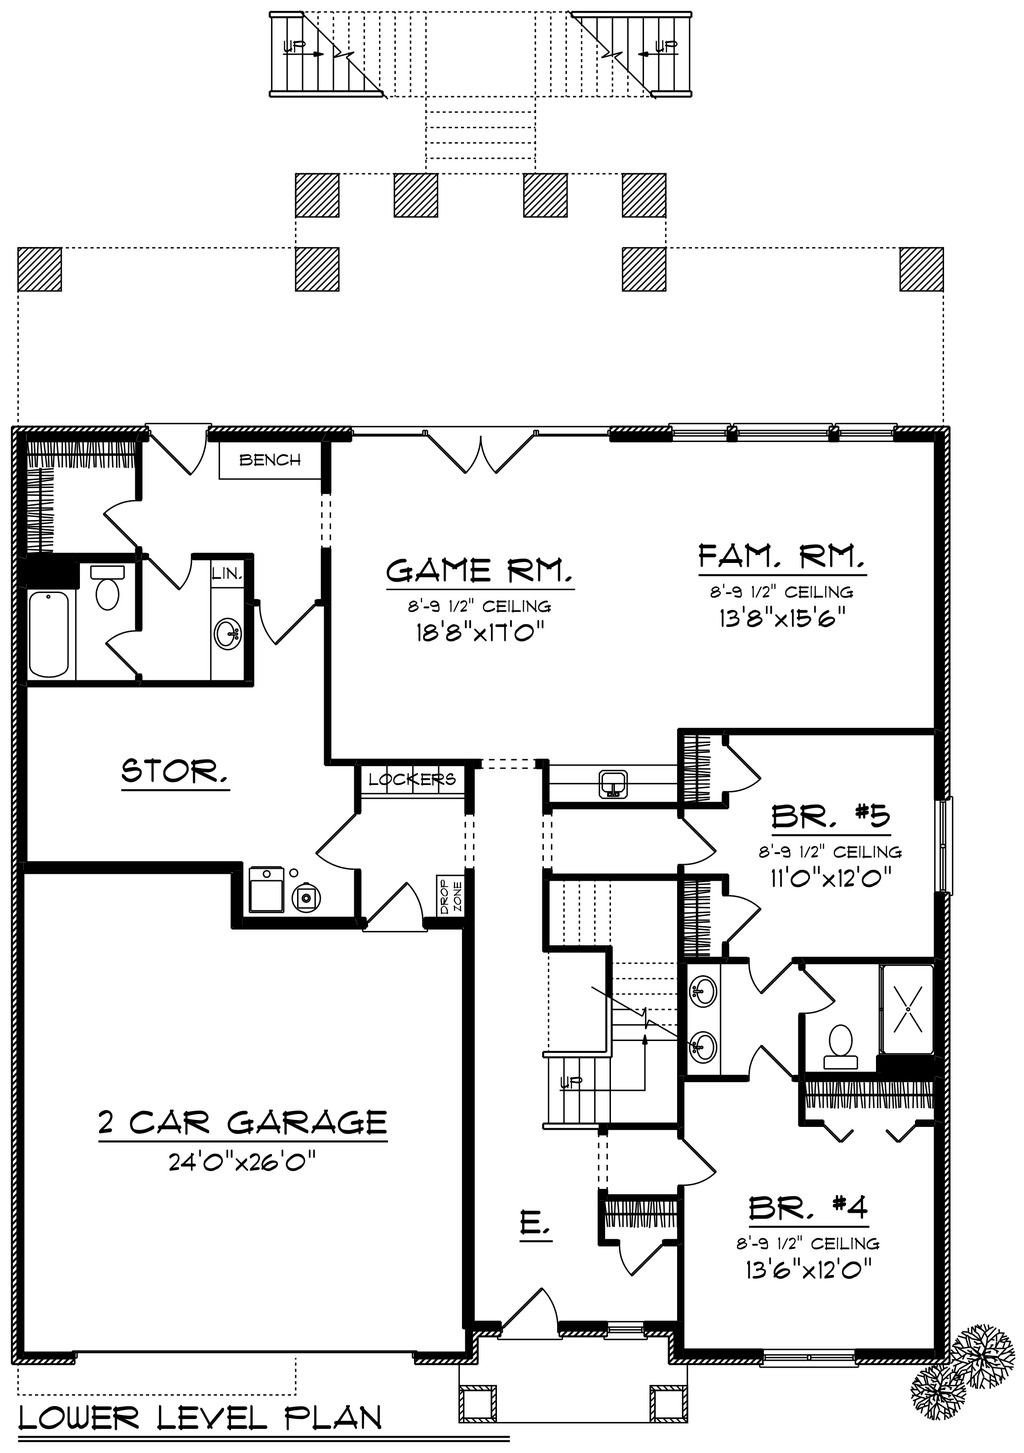door: (424, 426, 537, 479), (139, 423, 217, 475), (314, 808, 363, 877), (252, 591, 311, 645), (498, 1288, 560, 1339), (140, 545, 199, 597), (366, 882, 426, 929), (672, 1132, 718, 1189), (733, 1040, 788, 1086), (98, 622, 143, 677), (677, 822, 724, 874), (98, 492, 140, 548), (723, 743, 762, 797), (612, 1232, 661, 1273), (721, 892, 762, 940), (748, 962, 798, 997)
large_sink: (818, 1020, 866, 1077), (86, 560, 134, 612)
small_sink: (203, 585, 250, 685), (683, 962, 721, 1075)
stairs: (264, 6, 697, 177), (535, 869, 680, 1132)
tub: (21, 589, 78, 688)
windows: (670, 422, 915, 440), (932, 797, 963, 897), (761, 1342, 856, 1367)
